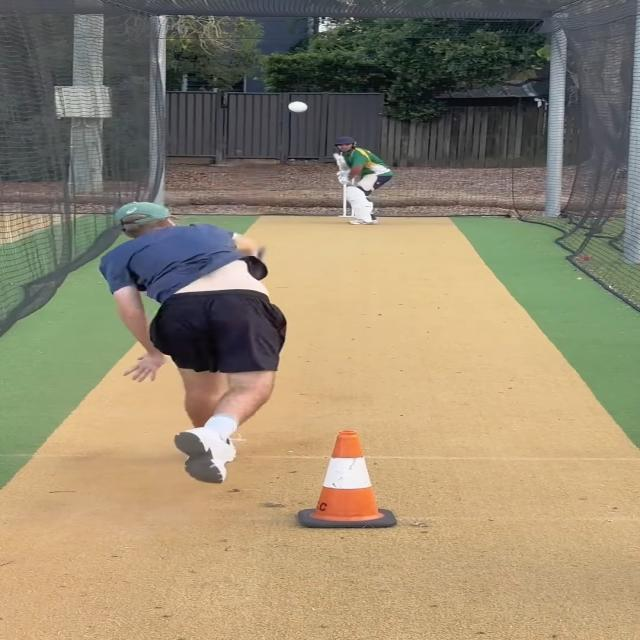Cricket ball: (285, 98, 311, 115)
